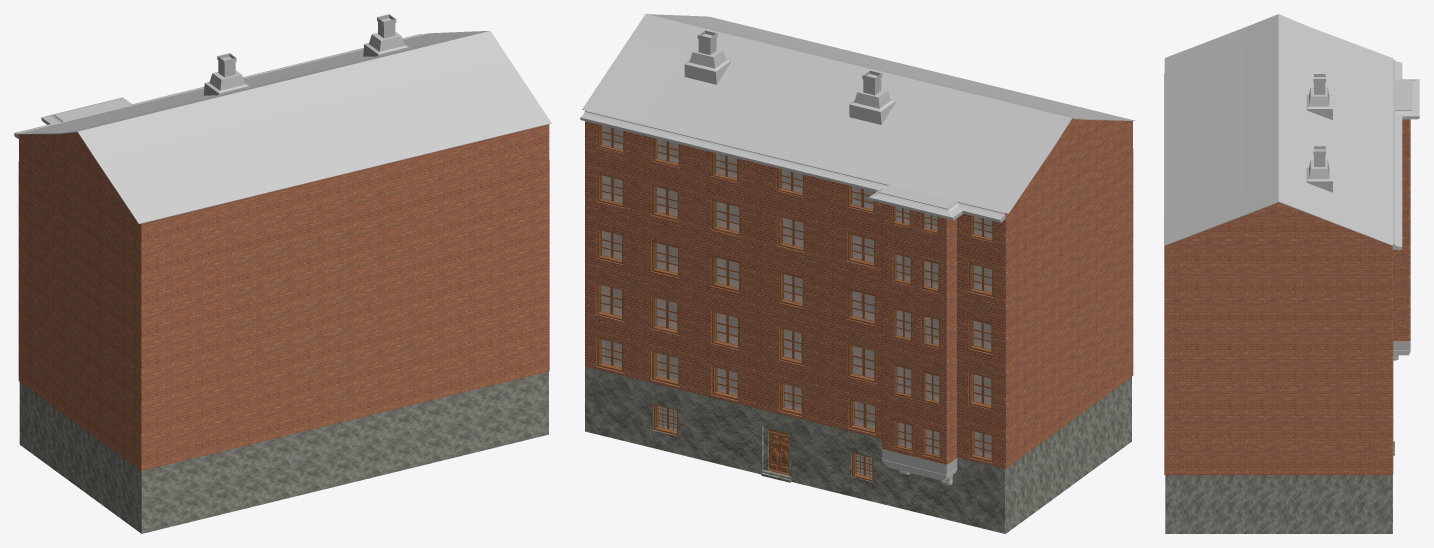
Rendered from Apartment2.fbx.
The picture shows the model from 3 angles, left to right: view 1: azimuth 30°, elevation 25°; view 2: azimuth 150°, elevation 25°; view 3: azimuth 270°, elevation 25°; orthographic projection. The views are drawn at different scales.
Visible parts, largest first — view 1: Apartment2, FullHouse.083, Apartment2.001, Apartment2.005, Apartment2.003, Apartment2.002, Apartment2.004, Apartment2.007, Apartment2.006, 5th_R_C.012; view 2: Apartment2, FullHouse.083, Apartment2.001, Apartment2.005, Apartment2.003, Apartment2.007, 5th_R_C.012, Apartment2.004, Apartment2.006, Apartment2.002, Apartment2.008, FullHouse.020 (+28 smaller); view 3: Apartment2, FullHouse.083, Apartment2.007, 5th_R_C.012.
Part boxes in pixels (x1=…): Apartment2: x1=18, y1=124, x2=549, y2=470; FullHouse.083: x1=14, y1=31, x2=551, y2=223; Apartment2.001: x1=19, y1=382, x2=188, y2=533; Apartment2.005: x1=379, y1=396, x2=448, y2=475; Apartment2.003: x1=252, y1=427, x2=320, y2=506; Apartment2.002: x1=189, y1=444, x2=252, y2=522; Apartment2.004: x1=321, y1=413, x2=379, y2=489; Apartment2.007: x1=497, y1=371, x2=548, y2=446; Apartment2.006: x1=449, y1=384, x2=497, y2=458; 5th_R_C.012: x1=203, y1=14, x2=408, y2=95; Apartment2: x1=582, y1=109, x2=1133, y2=468; FullHouse.083: x1=580, y1=14, x2=1135, y2=222; Apartment2.001: x1=957, y1=377, x2=1131, y2=533; Apartment2.005: x1=688, y1=391, x2=759, y2=473; Apartment2.003: x1=819, y1=423, x2=891, y2=505; Apartment2.007: x1=585, y1=366, x2=638, y2=444; 5th_R_C.012: x1=684, y1=30, x2=895, y2=124; Apartment2.004: x1=759, y1=409, x2=819, y2=488; Apartment2.006: x1=638, y1=379, x2=687, y2=456; Apartment2.002: x1=891, y1=457, x2=957, y2=522; Apartment2.008: x1=882, y1=449, x2=957, y2=484; FullHouse.020: x1=848, y1=344, x2=876, y2=382; Apartment2: x1=1164, y1=74, x2=1410, y2=475; FullHouse.083: x1=1164, y1=14, x2=1419, y2=250; Apartment2.007: x1=1165, y1=475, x2=1392, y2=533; 5th_R_C.012: x1=1306, y1=73, x2=1332, y2=192.
Size of the model in its own units: 27.26 by 23.68 by 15.69.
